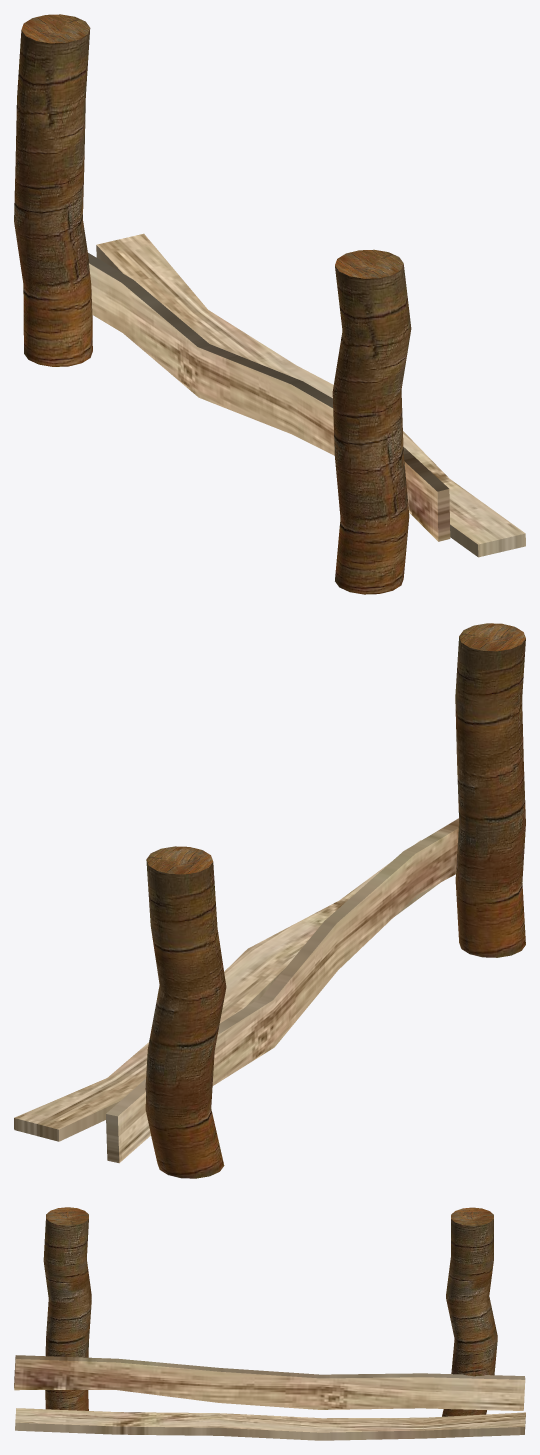
Rendered from Rangé 1 barrière droite endommagée.FBX.
3 views of the same model, one above another, from view 1: azimuth 30°, elevation 25°; view 2: azimuth 150°, elevation 25°; view 3: azimuth 270°, elevation 25° (orthographic). The views are drawn at different scales.
Visible parts, largest first — view 1: Barrières droites; view 2: Barrières droites; view 3: Barrières droites.
Boxes of the visible parts, bbox=[...] form: Barrières droites: bbox=[14, 14, 525, 594]; Barrières droites: bbox=[14, 623, 525, 1178]; Barrières droites: bbox=[14, 1207, 525, 1440].
Size of the model in its own units: 33.43 by 59.94 by 138.
